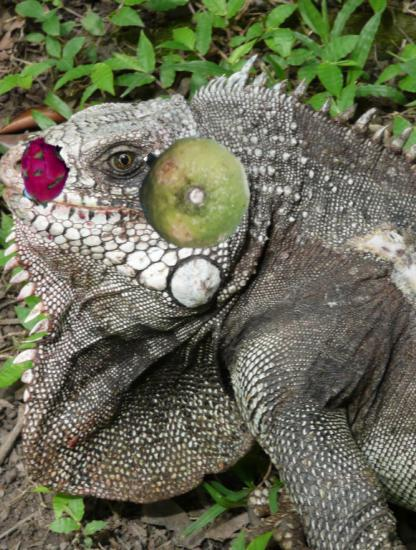Limes: (136, 134, 252, 250)
Pitahaya: (8, 136, 81, 209)
